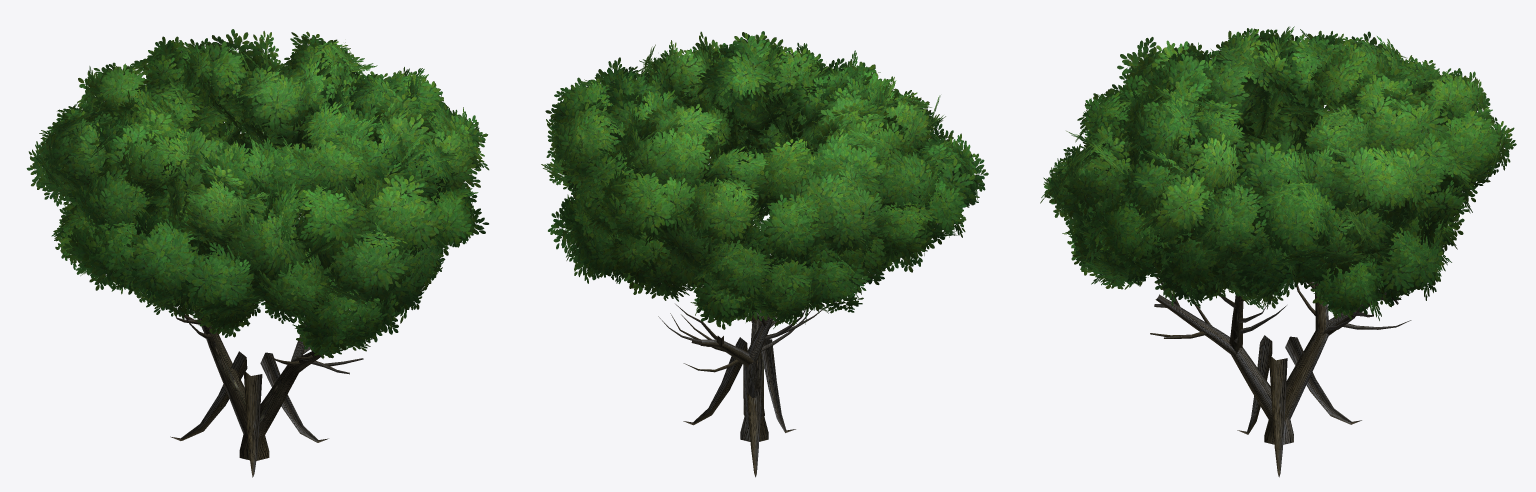
The model's file is mm6_deco_tree26.glb.
3 renders of one model, left to right at view 1: azimuth 30°, elevation 25°; view 2: azimuth 150°, elevation 25°; view 3: azimuth 270°, elevation 25°, orthographic. The views are drawn at different scales.
Visible parts, largest first — view 1: Tree; view 2: Tree; view 3: Tree.
Boxes of the visible parts, x1,y1,x2,y2 form: Tree: [26, 29, 489, 477]; Tree: [541, 31, 988, 477]; Tree: [1040, 26, 1516, 477].
Size of the model in its own units: 1.86 by 1.6 by 1.87.
Materials: 2 (2 with a texture image).
